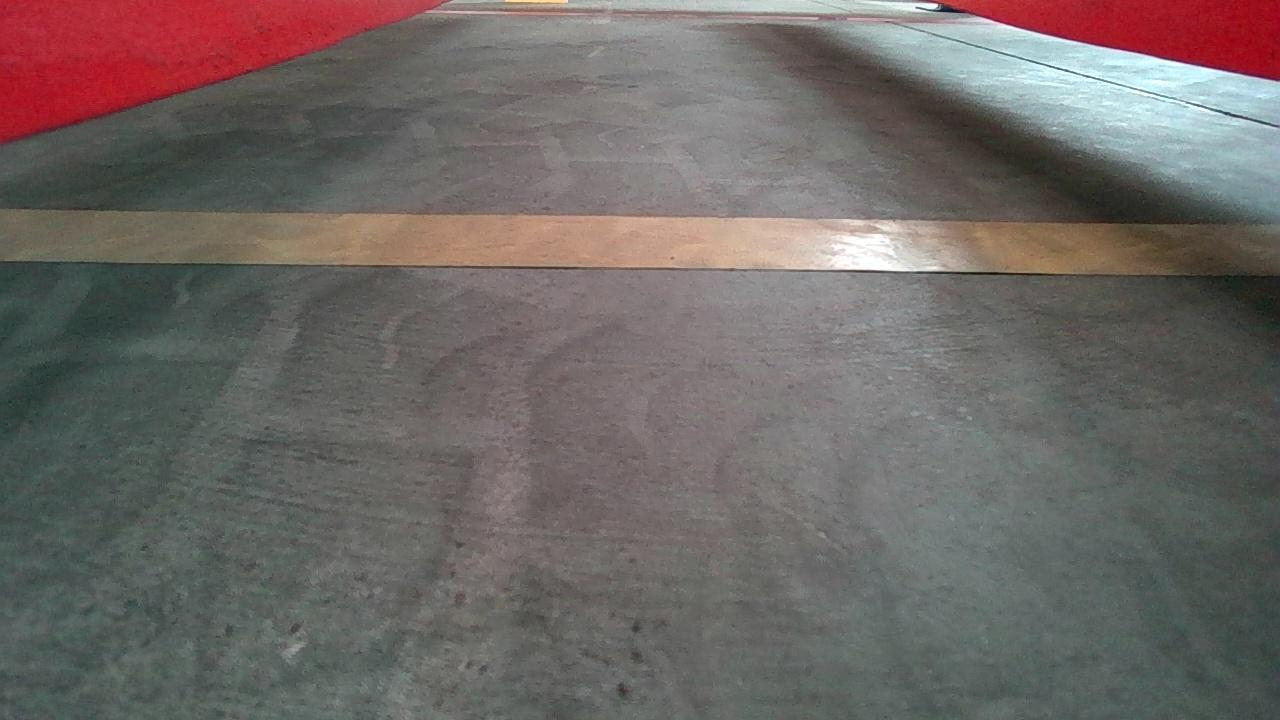yellow_line: (0, 204, 1280, 274)
